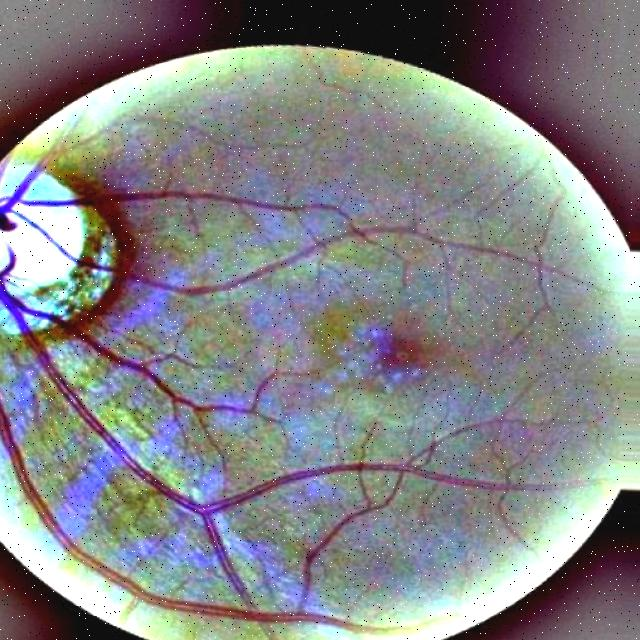Macula: (373, 330, 432, 380)
Nerves: (0, 241, 515, 600), (0, 398, 365, 629), (0, 164, 542, 295), (0, 110, 175, 228), (302, 501, 375, 602)
Optic Disk: (0, 165, 87, 290)
